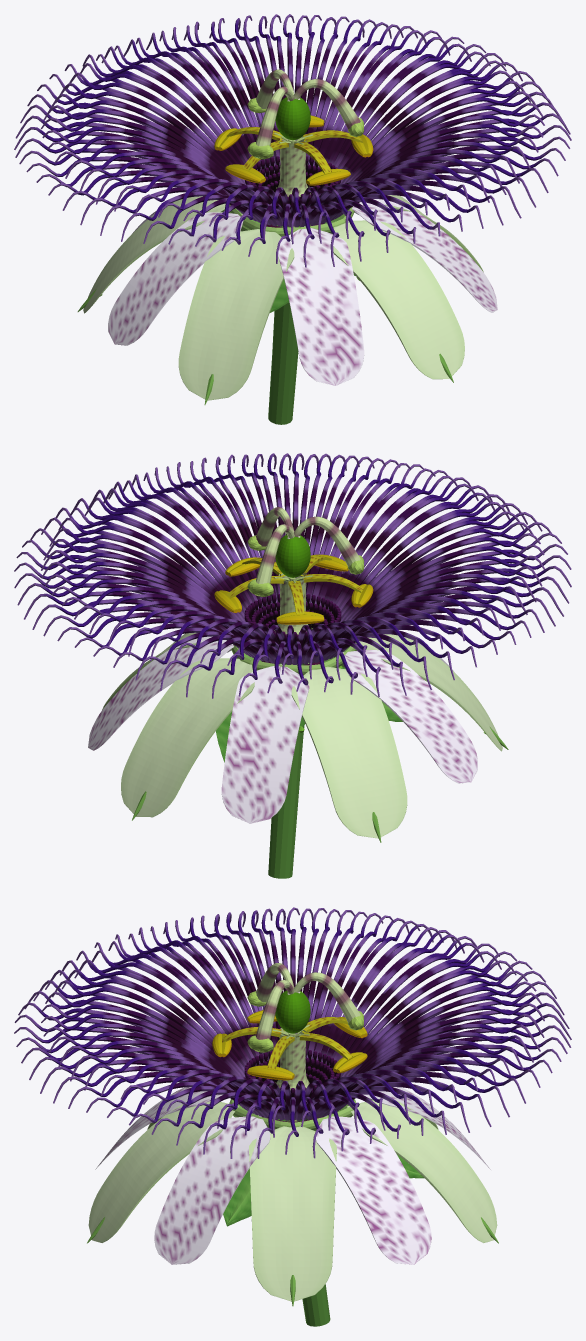
File: passiflora_ligularis.obj
The picture shows the model from 3 angles, top to bottom: view 1: azimuth 30°, elevation 25°; view 2: azimuth 150°, elevation 25°; view 3: azimuth 270°, elevation 25°; orthographic projection.
Parts seen in each view (by area): view 1: Corona_Filamentos_Radii, Caliz_Sepalos, Corola_Petalos, Pedicelo_Hipanto, Androceo_Estambres, Gineceo_Estilos_Estigmas, Corona_Interna_Pali, Columna_Androginoforo, Gineceo_Ovario_Supero; view 2: Corona_Filamentos_Radii, Caliz_Sepalos, Corola_Petalos, Androceo_Estambres, Pedicelo_Hipanto, Gineceo_Estilos_Estigmas, Corona_Interna_Pali, Gineceo_Ovario_Supero, Columna_Androginoforo, Epicaliz_Bracteas_Involucrales; view 3: Corona_Filamentos_Radii, Caliz_Sepalos, Corola_Petalos, Androceo_Estambres, Gineceo_Estilos_Estigmas, Pedicelo_Hipanto, Corona_Interna_Pali, Gineceo_Ovario_Supero, Epicaliz_Bracteas_Involucrales, Columna_Androginoforo.
Part boxes in pixels (x1,y1,x2,y2): Corona_Filamentos_Radii: (14, 14, 571, 267); Caliz_Sepalos: (77, 195, 483, 404); Corola_Petalos: (108, 199, 497, 385); Pedicelo_Hipanto: (229, 186, 354, 424); Androceo_Estambres: (214, 115, 373, 185); Gineceo_Estilos_Estigmas: (247, 69, 363, 159); Corona_Interna_Pali: (245, 156, 340, 210); Columna_Androginoforo: (277, 136, 310, 196); Gineceo_Ovario_Supero: (275, 97, 310, 140); Corona_Filamentos_Radii: (14, 453, 571, 698); Caliz_Sepalos: (102, 632, 508, 842); Corola_Petalos: (88, 636, 477, 823); Androceo_Estambres: (214, 554, 373, 624); Pedicelo_Hipanto: (231, 628, 356, 878); Gineceo_Estilos_Estigmas: (247, 507, 364, 596); Corona_Interna_Pali: (244, 594, 341, 648); Gineceo_Ovario_Supero: (275, 534, 310, 577); Columna_Androginoforo: (275, 572, 308, 634); Epicaliz_Bracteas_Involucrales: (216, 666, 402, 762); Corona_Filamentos_Radii: (14, 907, 571, 1158); Caliz_Sepalos: (87, 1098, 498, 1306); Corola_Petalos: (95, 1087, 490, 1264); Androceo_Estambres: (212, 1010, 367, 1080); Gineceo_Estilos_Estigmas: (247, 963, 363, 1052); Pedicelo_Hipanto: (229, 1082, 356, 1326); Corona_Interna_Pali: (244, 1050, 341, 1102); Gineceo_Ovario_Supero: (275, 990, 310, 1033); Epicaliz_Bracteas_Involucrales: (223, 1119, 424, 1226); Columna_Androginoforo: (276, 1028, 309, 1090).
Bounding box in the file's own units: 77.18 × 53.38 × 77.16.
